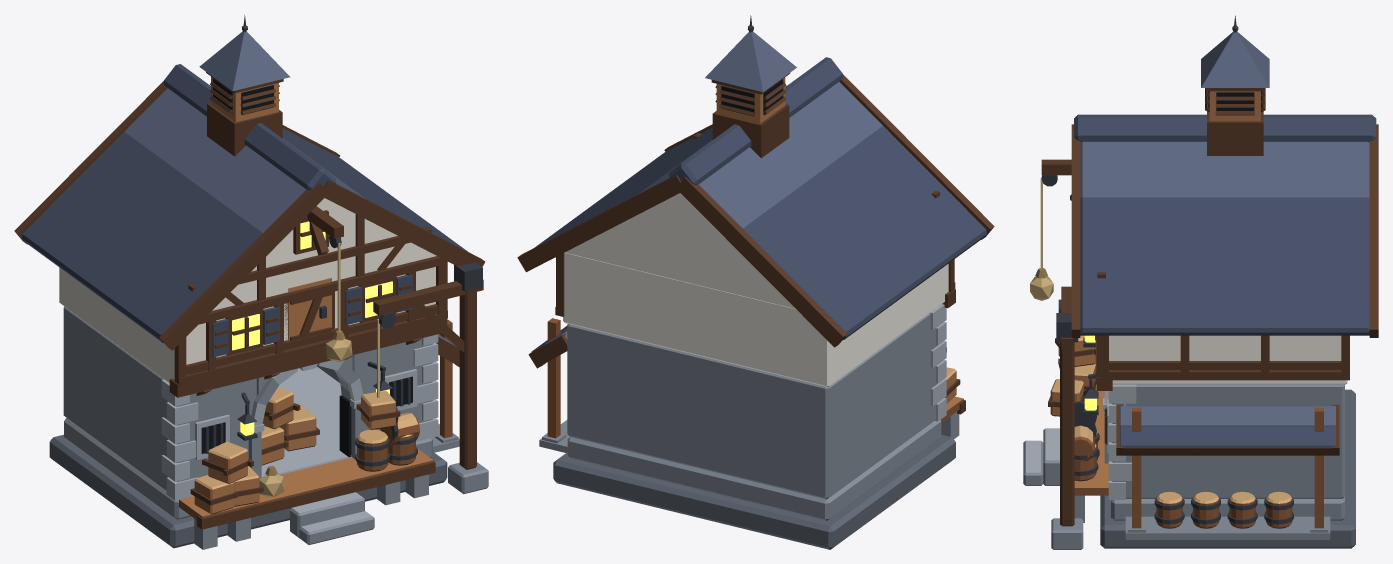
The model's file is Bld_Warehouse_L3.fbx.
3 views of the same model, side by side, from view 1: azimuth 30°, elevation 25°; view 2: azimuth 150°, elevation 25°; view 3: azimuth 270°, elevation 25° (orthographic). The views are drawn at different scales.
Visible parts, largest first — view 1: Bld_Warehouse_L3; view 2: Bld_Warehouse_L3; view 3: Bld_Warehouse_L3.
Part boxes in pixels (bbox=[...]): Bld_Warehouse_L3: bbox=[14, 15, 488, 549]; Bld_Warehouse_L3: bbox=[517, 15, 994, 549]; Bld_Warehouse_L3: bbox=[1023, 15, 1378, 549].
Bounding box in the file's own units: 5.35 × 7.05 × 4.86.
